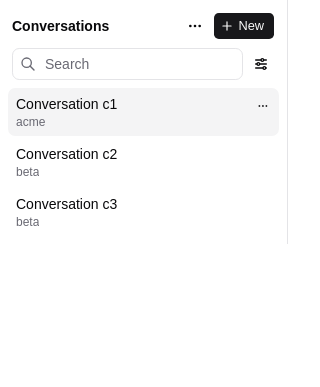
Test: filters and list › narrows the list itself when nothing is typed
The width and height of the screenshot is (320, 387).
Click the button named "Search filters".
click(261, 64)  # box [247,50,275,78]
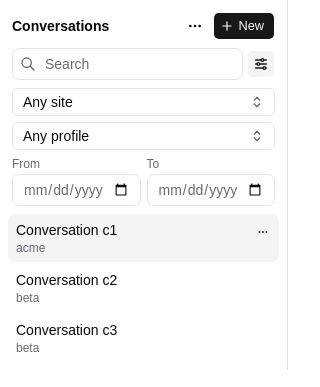
Select "beta" in the dropdown named "Site" at (144, 102), box [12,88,275,116]
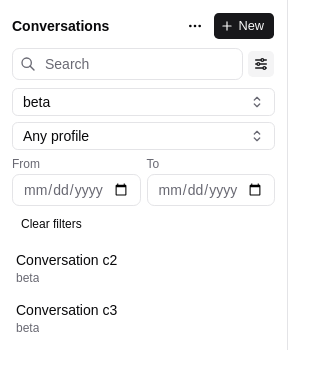
Expected: the text "Conversation c2" is shown, [16,250,117,270]
Expected: the button "Conversation c1" is gone
Type "2026-10-01" into the date field labelled "From".
click(76, 190); type("2026-10-01")  # box [12,174,140,206]
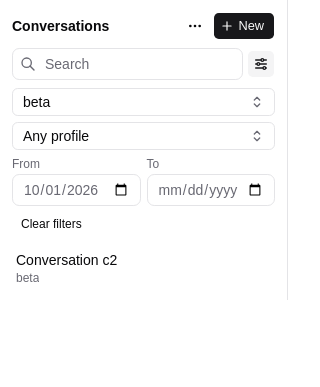
Expected: the button "Conversation c3" is gone
Select "Explore" in the dropdown named "Profile" at (144, 136), box [12,122,275,150]
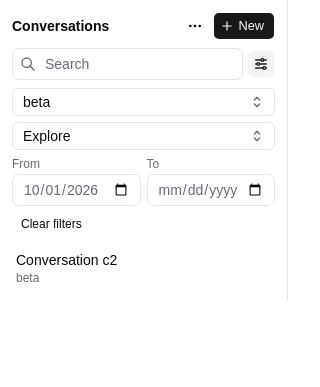
Expected: the text "Conversation c2" is shown, [16,250,117,270]
Type "2026-10-07" into the date field labelled "To".
click(211, 190); type("2026-10-07")  # box [146,174,275,206]
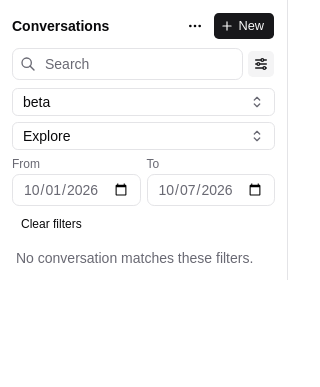
Expected: the list item "No conversation matches these filters." is shown, [16,250,253,266]
Click the button "Clear filters".
click(51, 224)  # box [12,212,91,236]
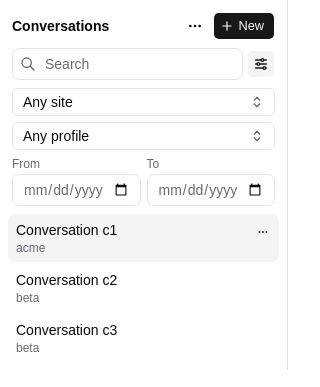
Expected: the text "Conversation c1" is shown, [16,220,117,240]
